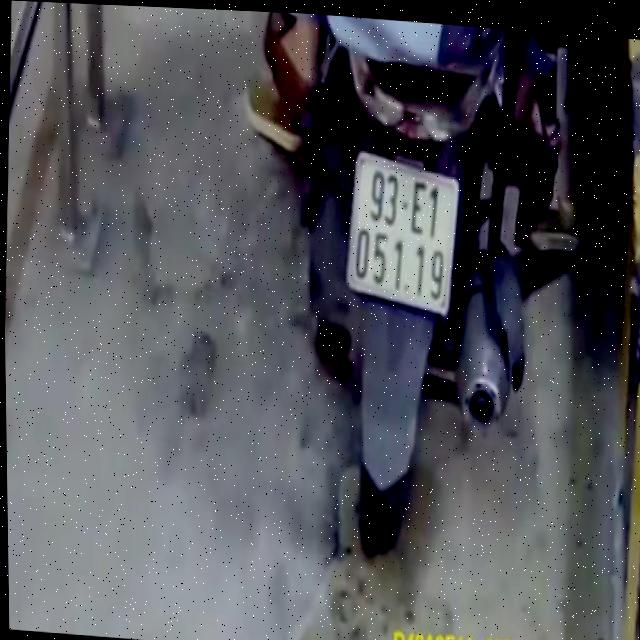motorcycle: (280, 14, 546, 587)
plate: (340, 143, 463, 320)
